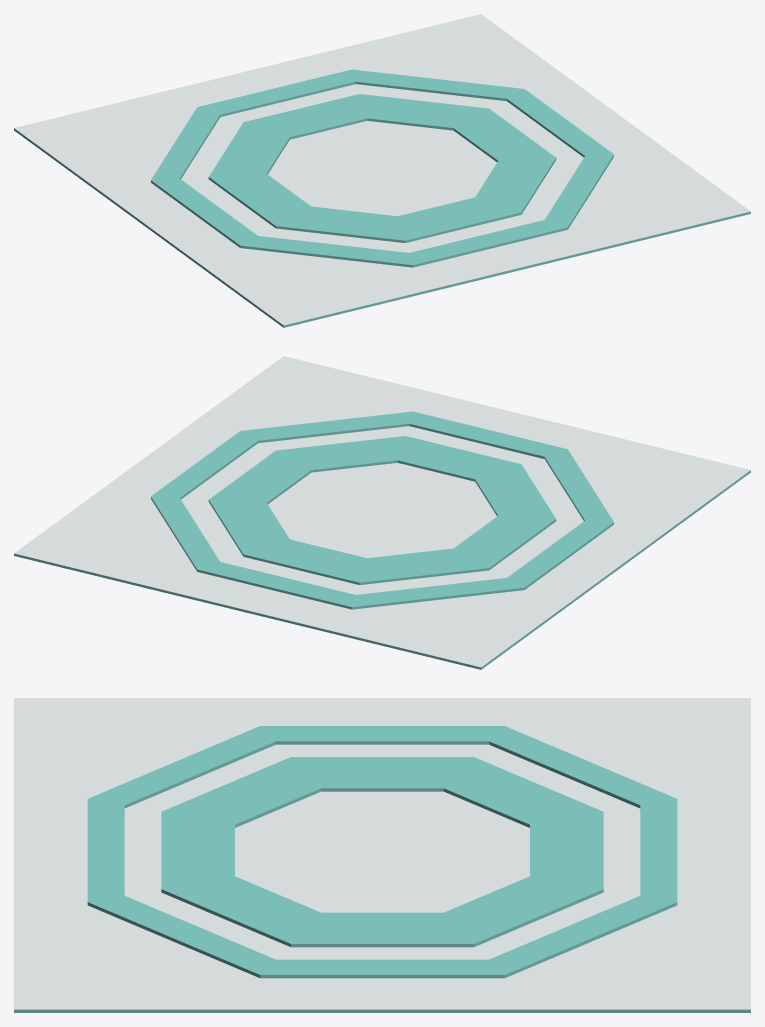
File: Prop_Rug_Sun.glb
The picture shows the model from 3 angles, top to bottom: view 1: azimuth 30°, elevation 25°; view 2: azimuth 150°, elevation 25°; view 3: azimuth 270°, elevation 25°; orthographic projection. The views are drawn at different scales.
Visible parts, largest first — view 1: Prop_Rug_Sun; view 2: Prop_Rug_Sun; view 3: Prop_Rug_Sun.
Part boxes in pixels (x1=…): Prop_Rug_Sun: x1=14, y1=14, x2=750, y2=327; Prop_Rug_Sun: x1=14, y1=356, x2=750, y2=669; Prop_Rug_Sun: x1=14, y1=698, x2=750, y2=1012.
Bounding box in the file's own units: 1 × 0.01 × 1.
